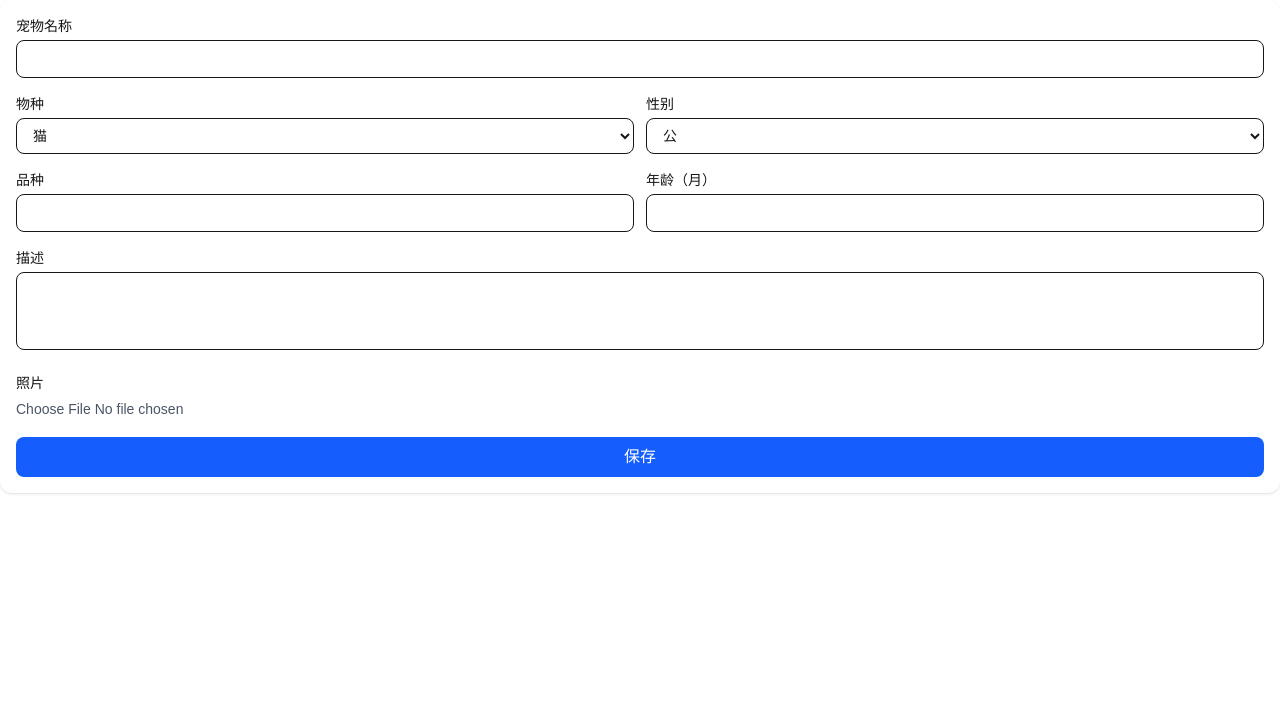
Test: PetForm › shows validation error when name is empty
Step 1. Click the button "保存" → (640, 457), box x1=16 y1=437 x2=1264 y2=477
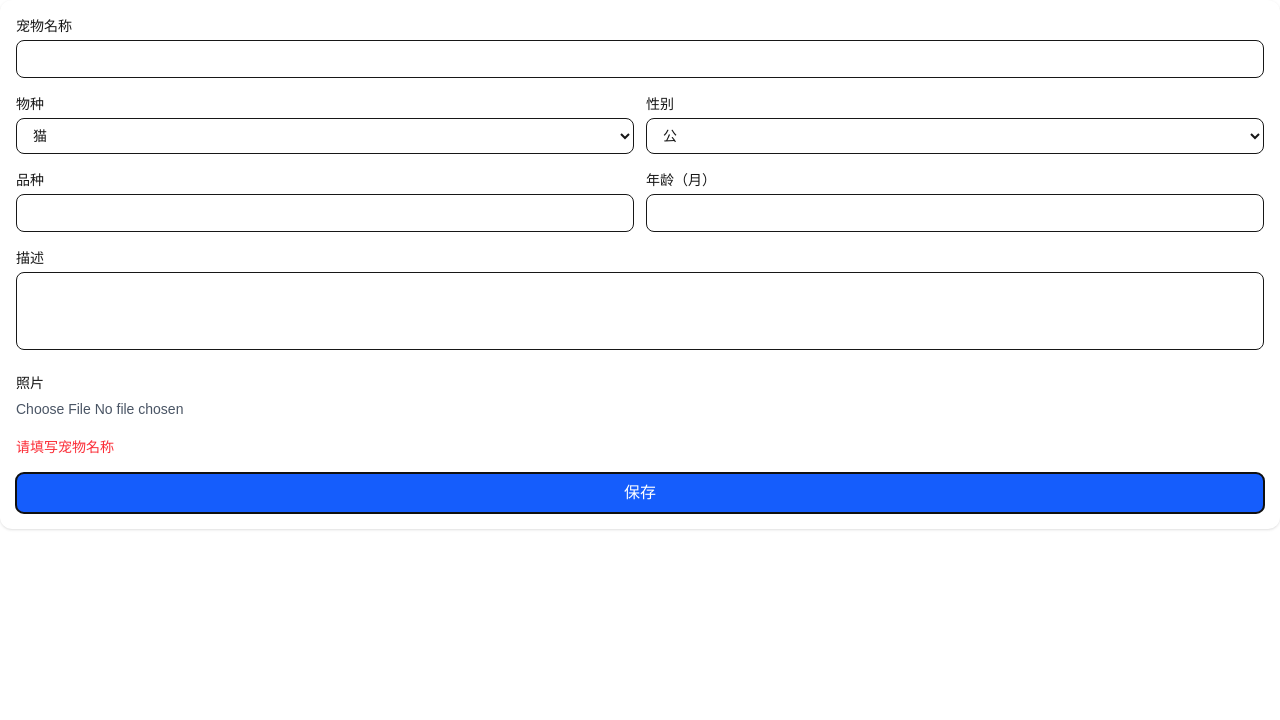
Expected: the text "请填写宠物名称" is shown, x1=16 y1=439 x2=114 y2=455
